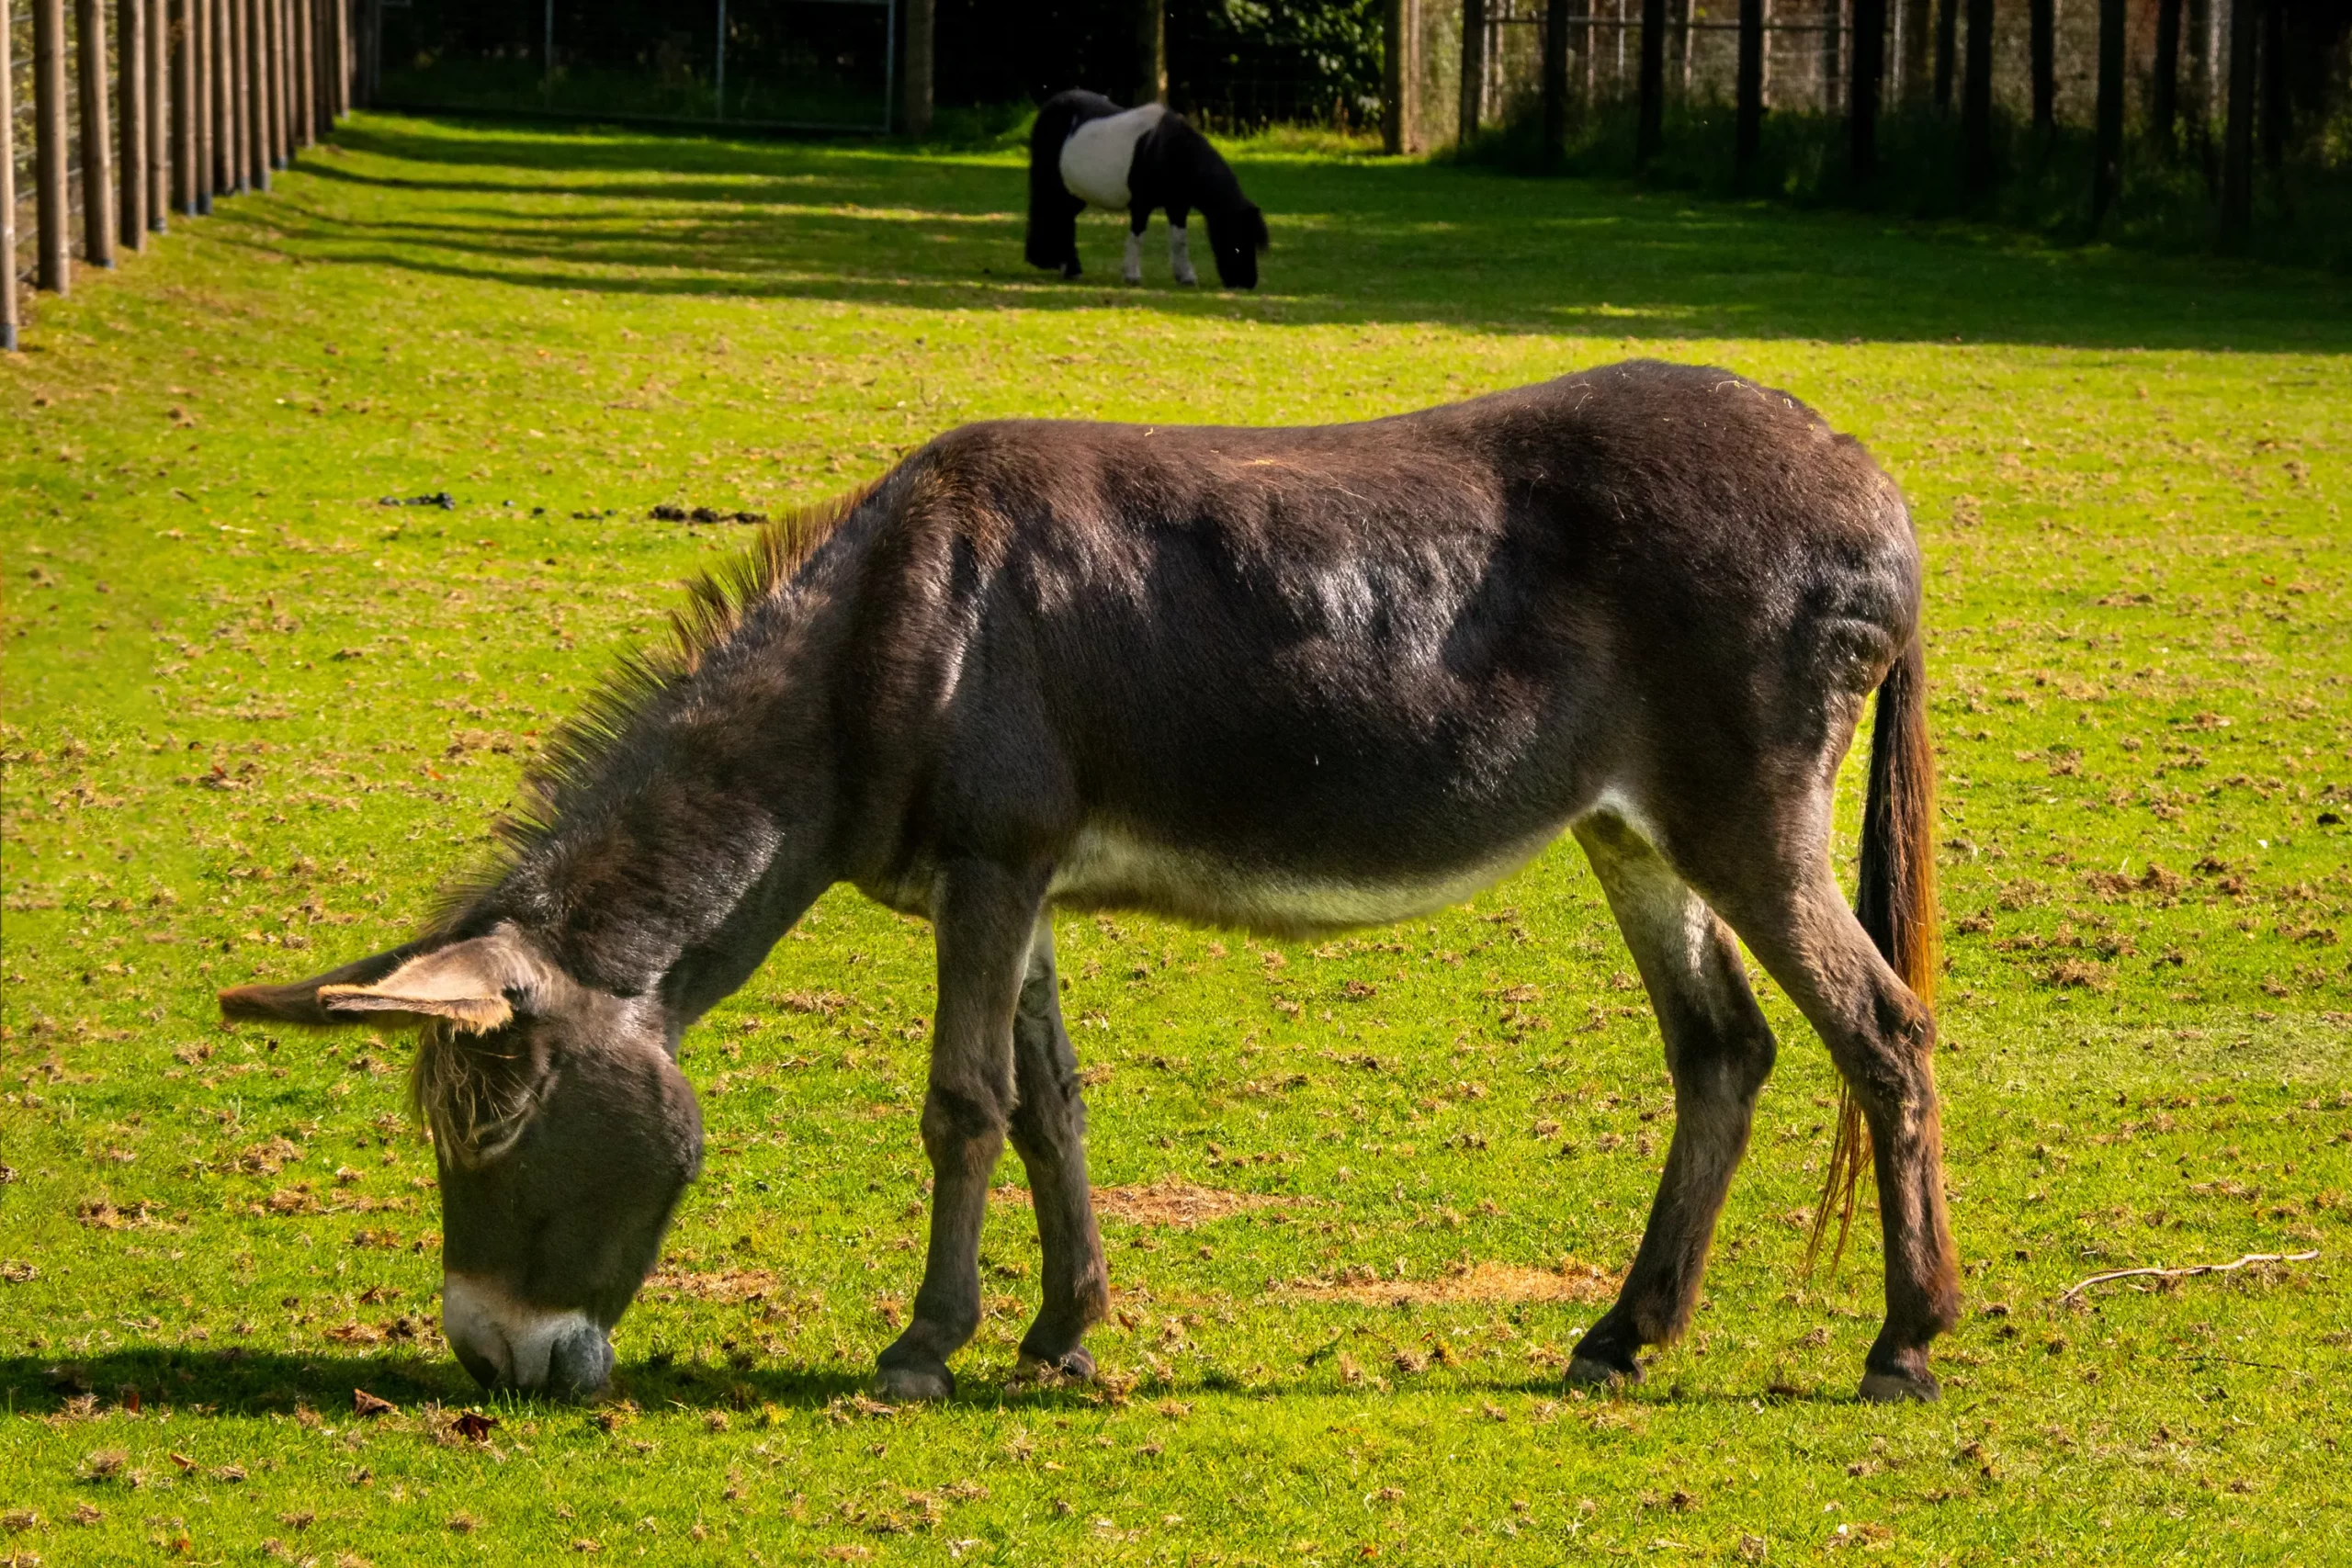donkey: (210, 355, 1988, 1409)
